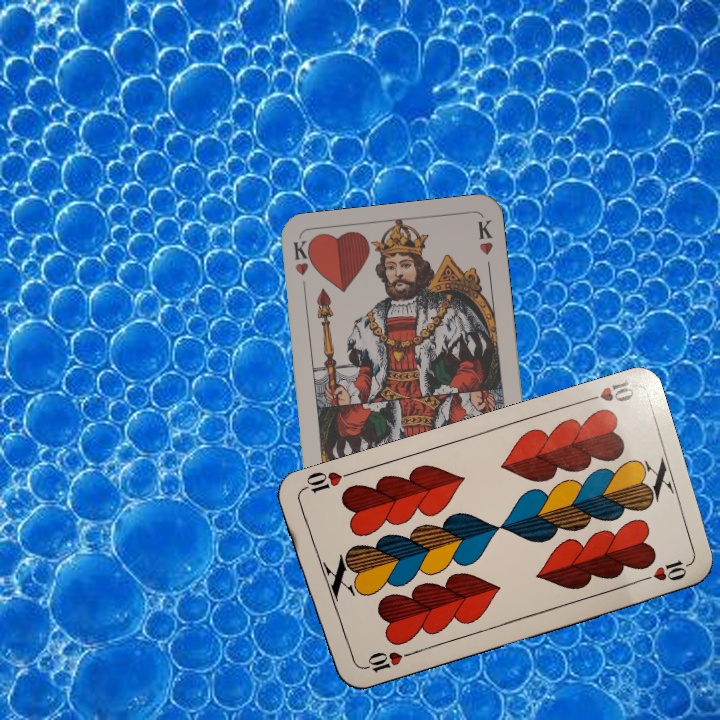H10: (577, 377, 637, 406), (356, 647, 414, 675)
HK: (288, 238, 313, 297)
